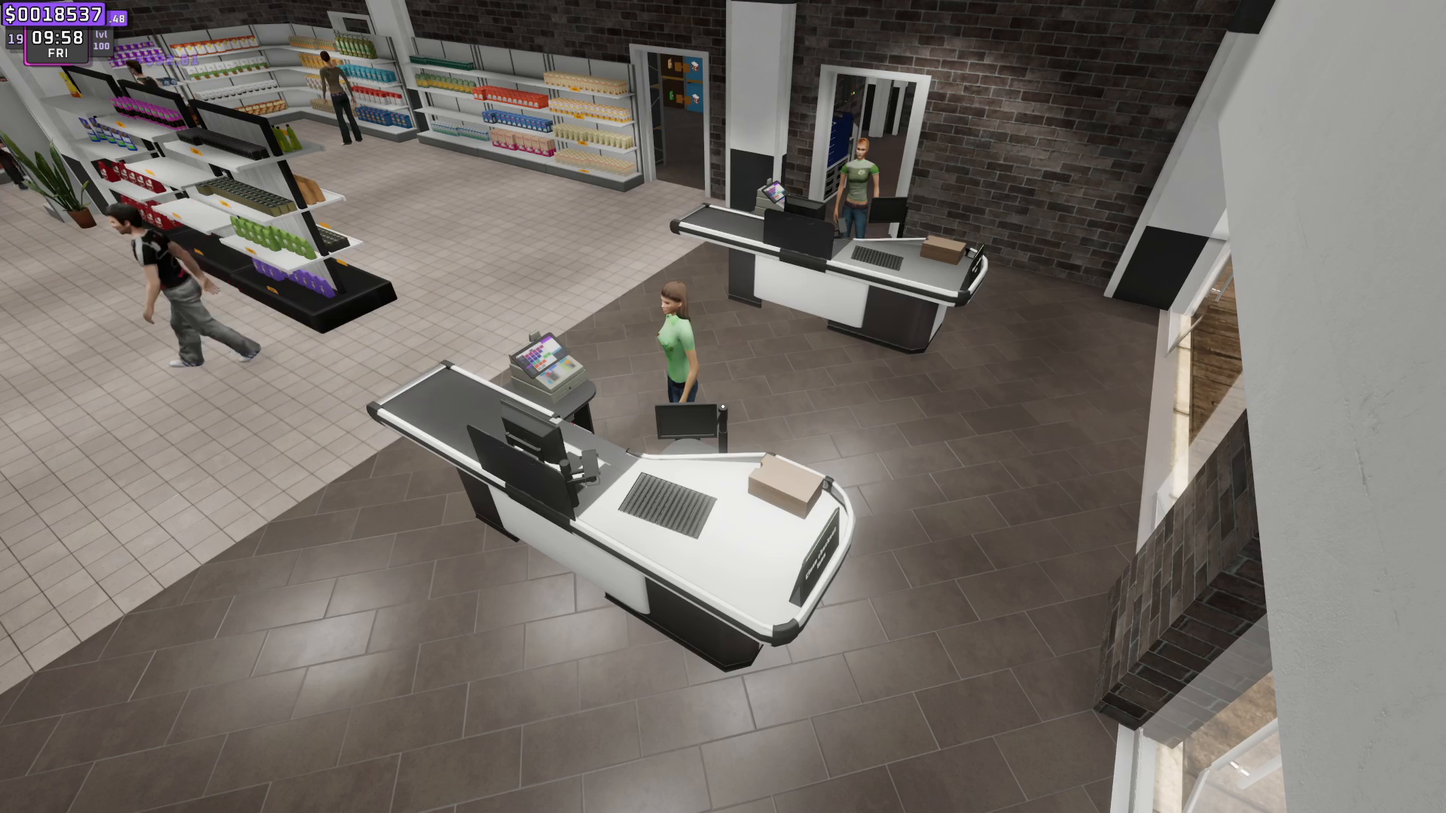Employee: (657, 276, 707, 398), (842, 133, 872, 231)
